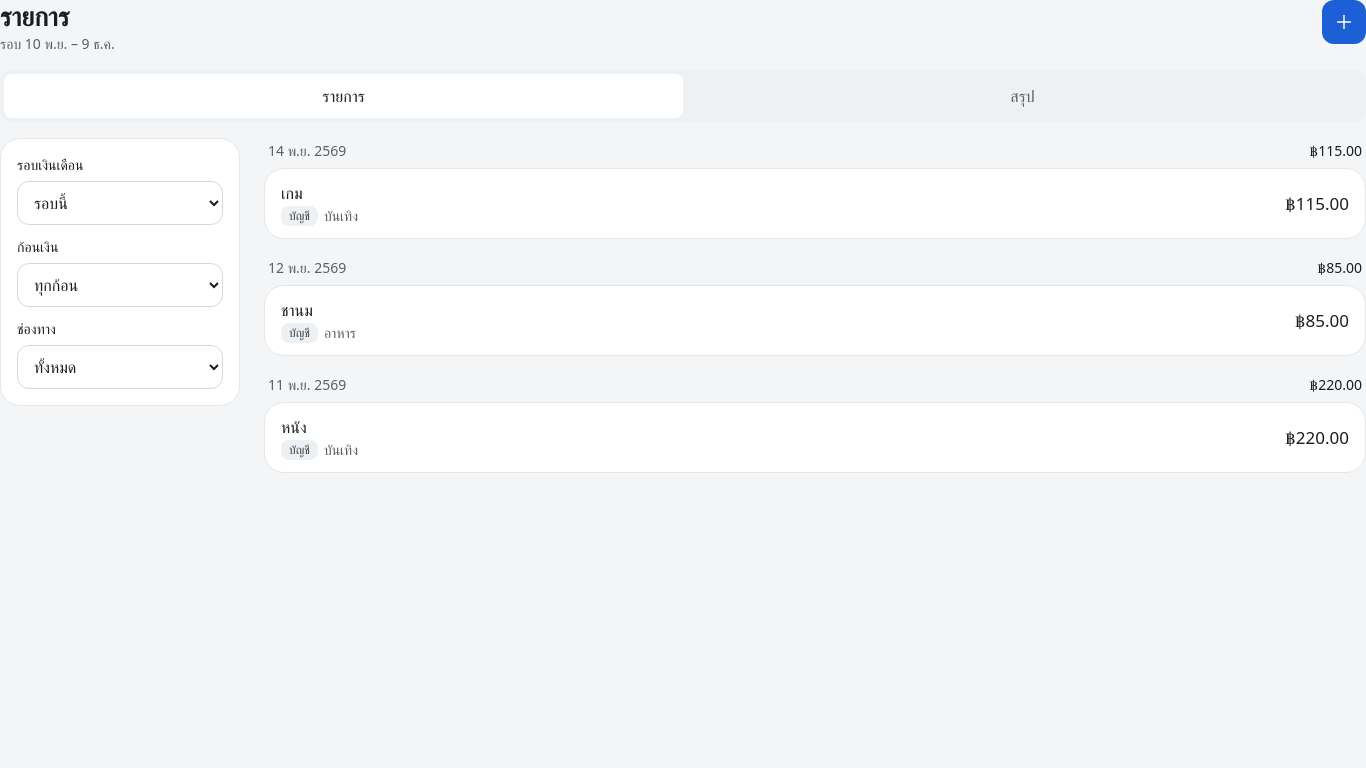
Test case: <EntriesPage> › opens BottomSheet on +, defaults date to today, validates, saves new transaction, and supports undo
This screenshot has width=1366, height=768.
Later steps or results of the test are not shown.
Click the button named "เพิ่มรายการ" at (1344, 22), box 1322,0 -> 1365,44
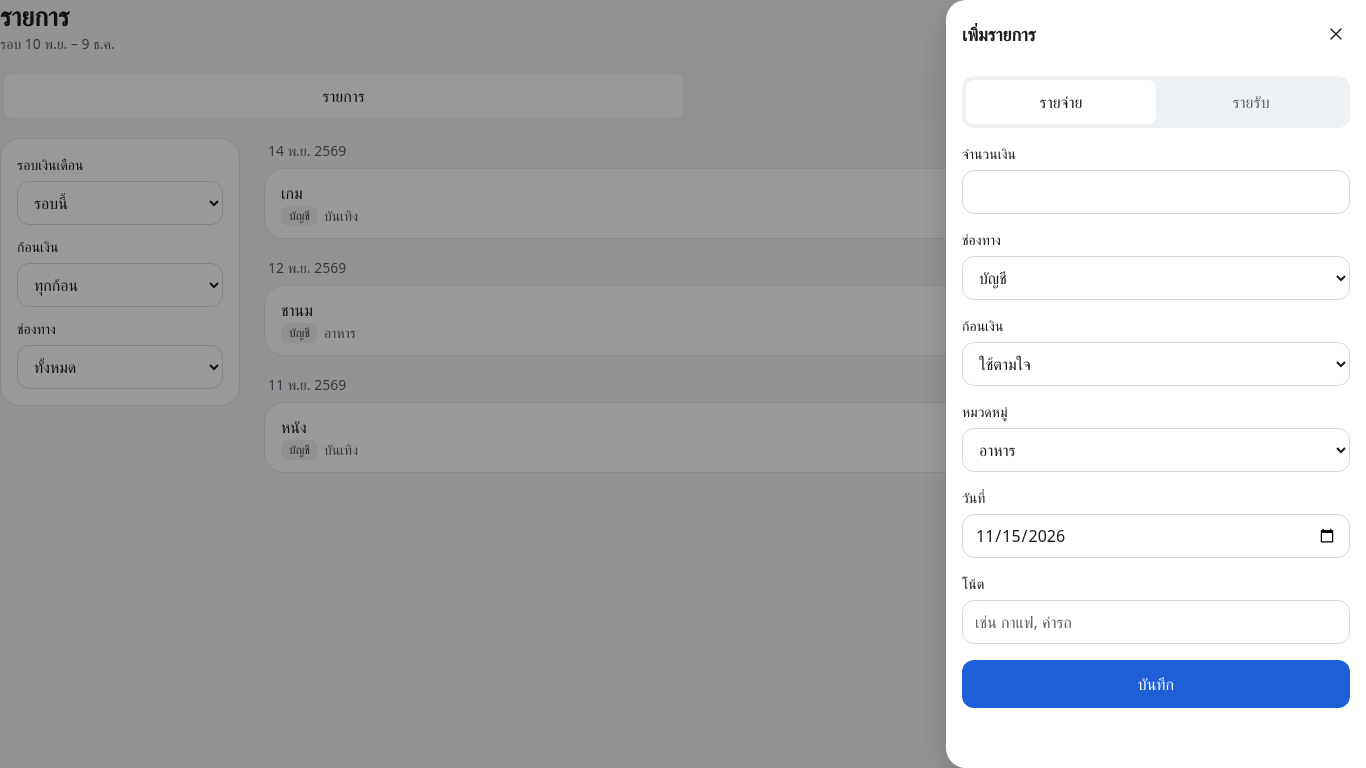
Now the heading "เพิ่มรายการ" is shown, box 962,20 -> 1036,48
Now the date field labelled "วันที่" holds "2026-11-15", box 962,514 -> 1350,558
// Reject empty amount
Click the button "บันทึก" at (1156, 684), box 962,660 -> 1350,708
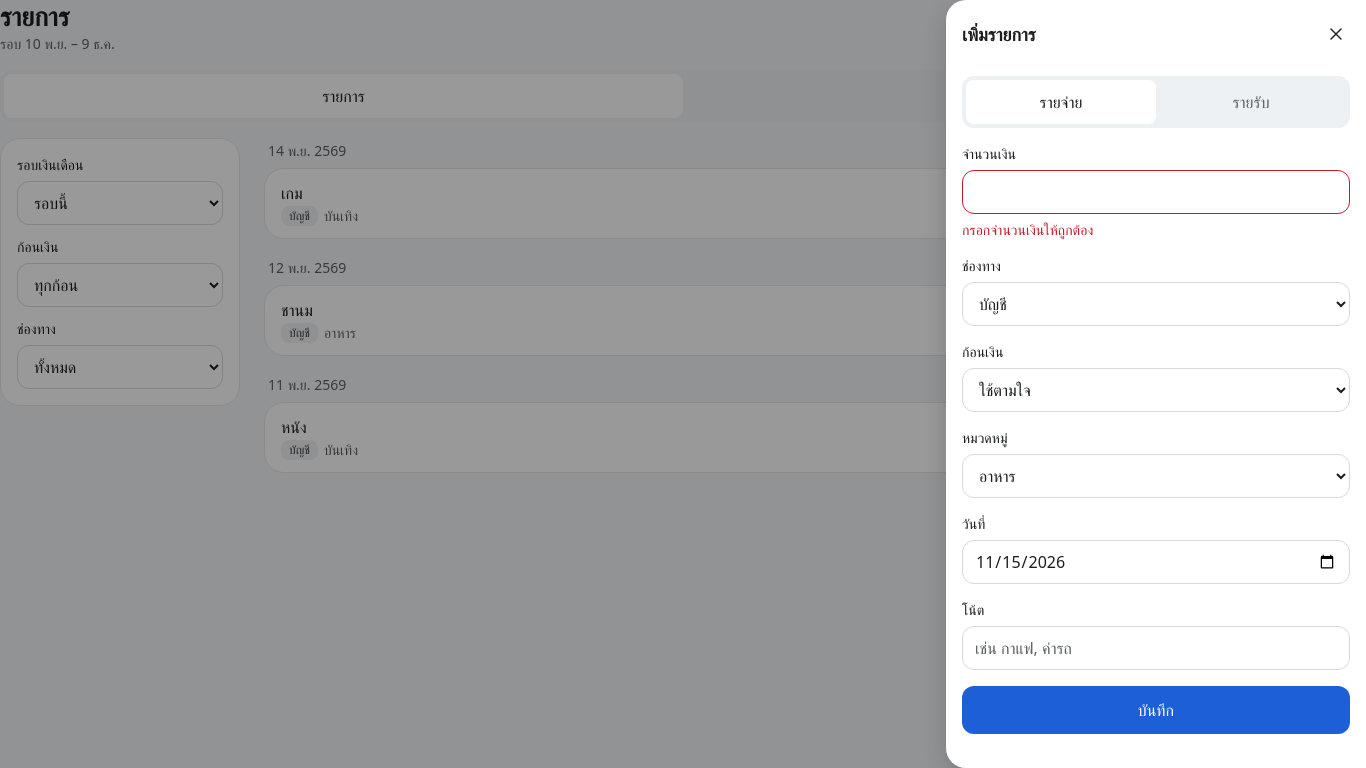
Now the text "กรอกจำนวนเงินให้ถูกต้อง" is shown, box 962,220 -> 1093,239
// Fill valid income transaction
Click the tab "รายรับ" at (1251, 102), box 1156,80 -> 1346,124
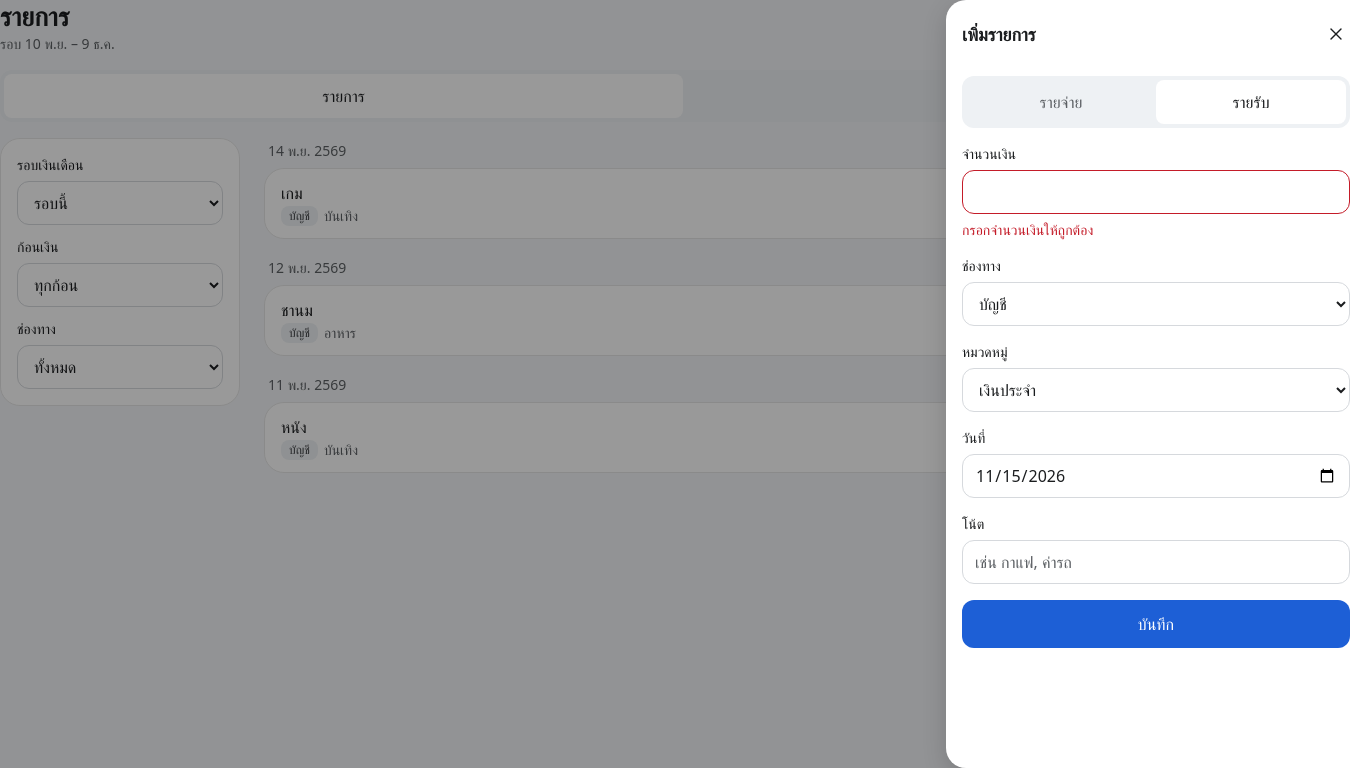
Type "10,200" into the field labelled "จำนวนเงิน" at (1156, 192), box 962,170 -> 1350,214
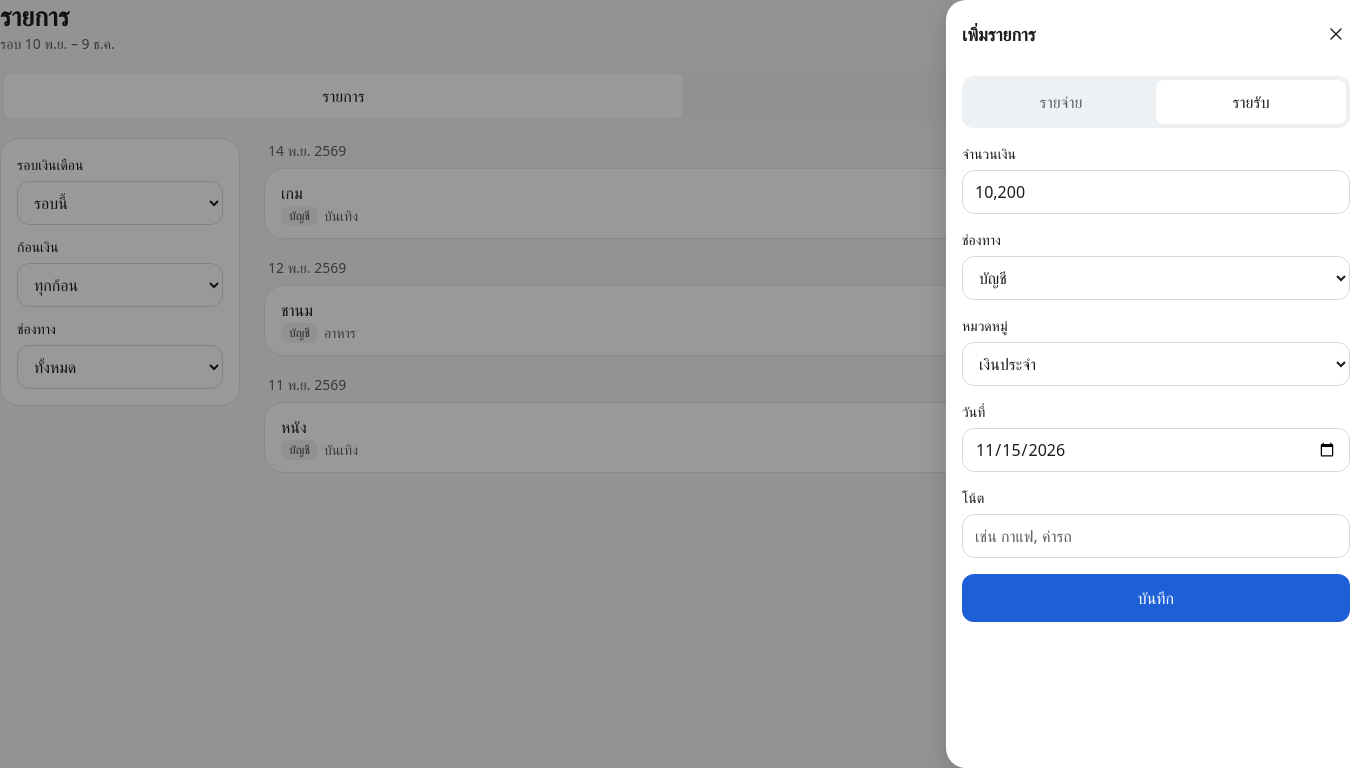
Type "เงินเดือน" into the field labelled "โน้ต" at (1156, 536), box 962,514 -> 1350,558
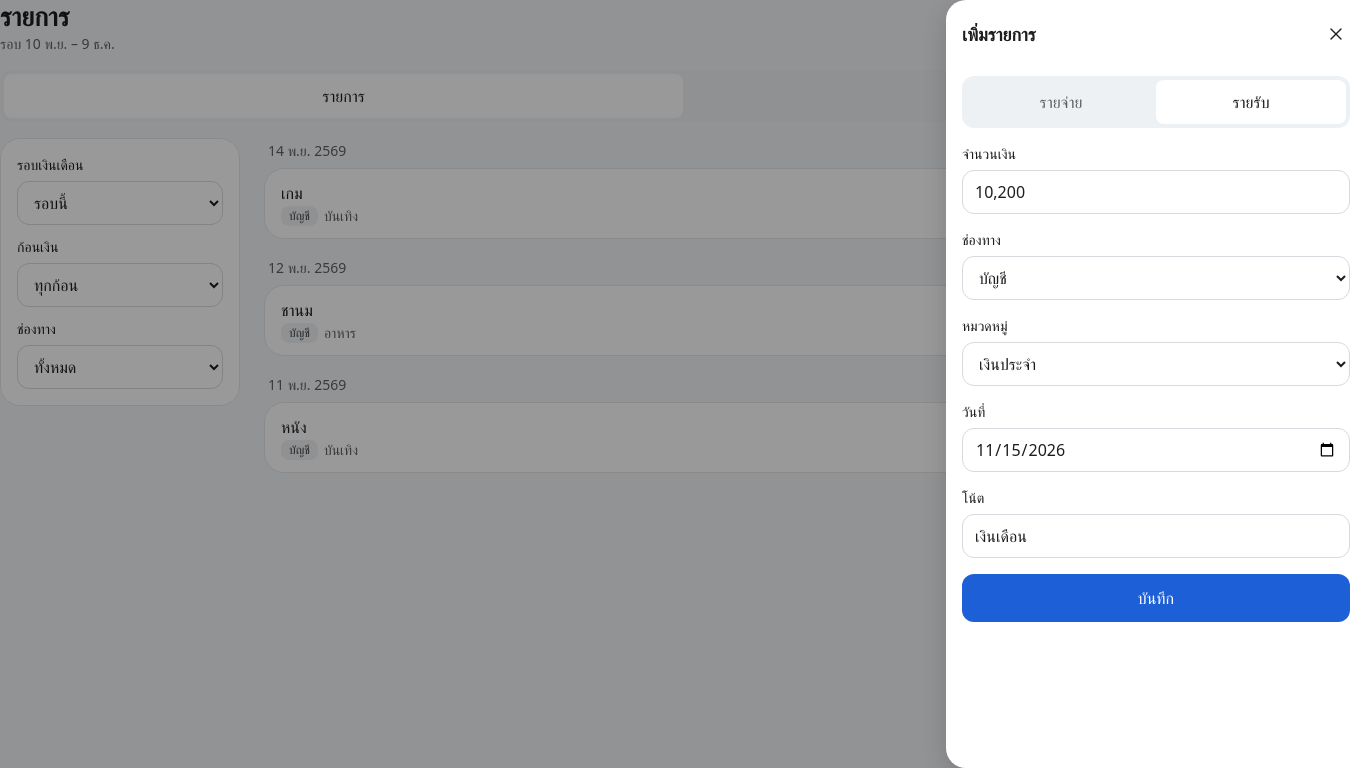
Click the button "บันทึก" at (1156, 598), box 962,574 -> 1350,622
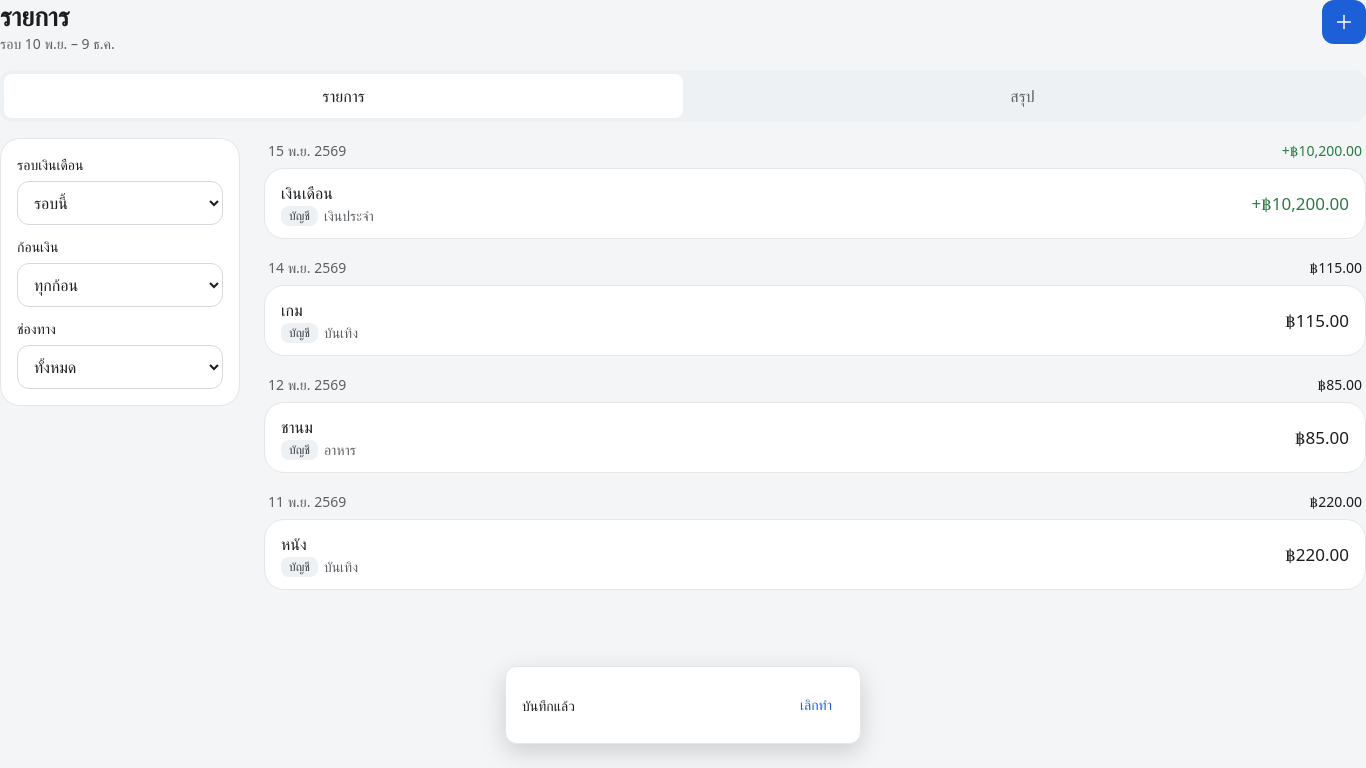
Now the text "บันทึกแล้ว" is shown, box 522,694 -> 575,716
Now the element with test id "day-total-2026-11-15" reads "+฿10,200.00", box 1282,138 -> 1362,162
